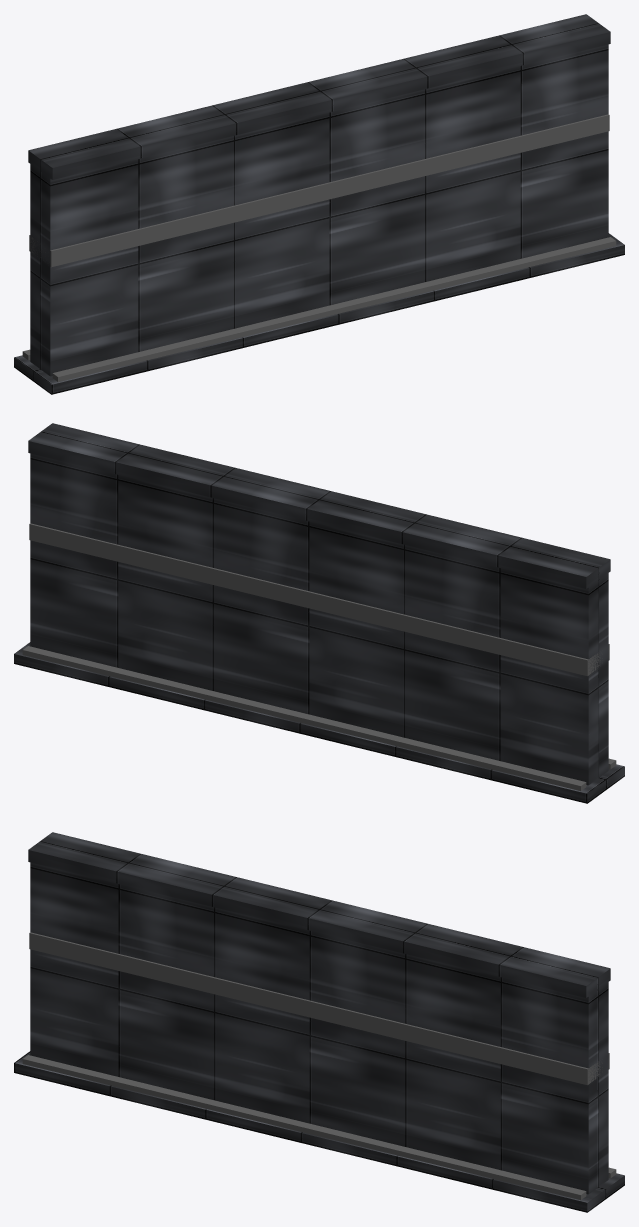
File: Building - Gate-CM_vZcZJ.glb
3 renders of one model, top to bottom at view 1: azimuth 30°, elevation 25°; view 2: azimuth 150°, elevation 25°; view 3: azimuth 330°, elevation 25°, orthographic.
Visible parts, largest first — view 1: Door, DoorLight, Sill, SillLight; view 2: Door, DoorLight, Sill, SillLight; view 3: Door, DoorLight, Sill, SillLight.
Boxes of the visible parts, bbox=[...] form: Door: bbox=[28, 14, 610, 376]; DoorLight: bbox=[29, 114, 609, 267]; Sill: bbox=[14, 233, 624, 394]; SillLight: bbox=[22, 237, 616, 381]; Door: bbox=[28, 423, 610, 785]; DoorLight: bbox=[29, 523, 609, 676]; Sill: bbox=[14, 642, 624, 803]; SillLight: bbox=[22, 646, 616, 790]; Door: bbox=[28, 832, 610, 1194]; DoorLight: bbox=[29, 932, 609, 1085]; Sill: bbox=[14, 1051, 624, 1212]; SillLight: bbox=[22, 1055, 616, 1199].
Size of the model in its own units: 3 by 1.1 by 0.34.
2 materials, 1 textured.
